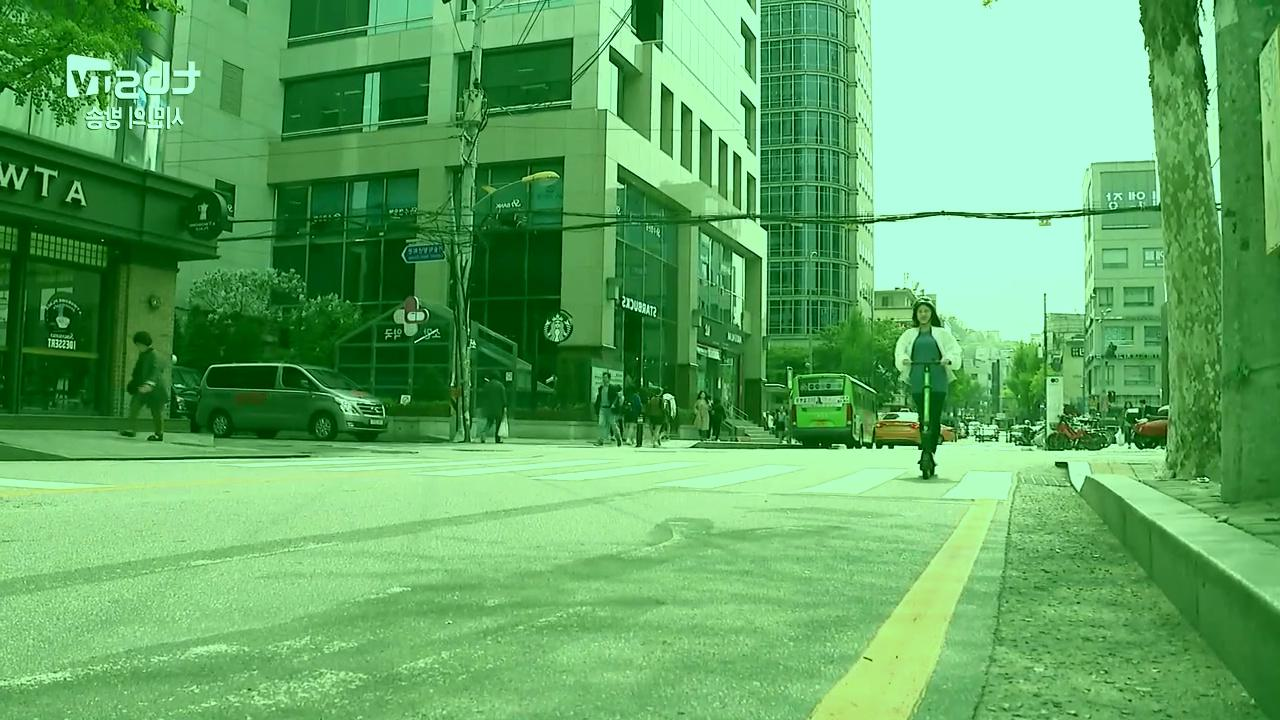helmet: (893, 294, 966, 482)
